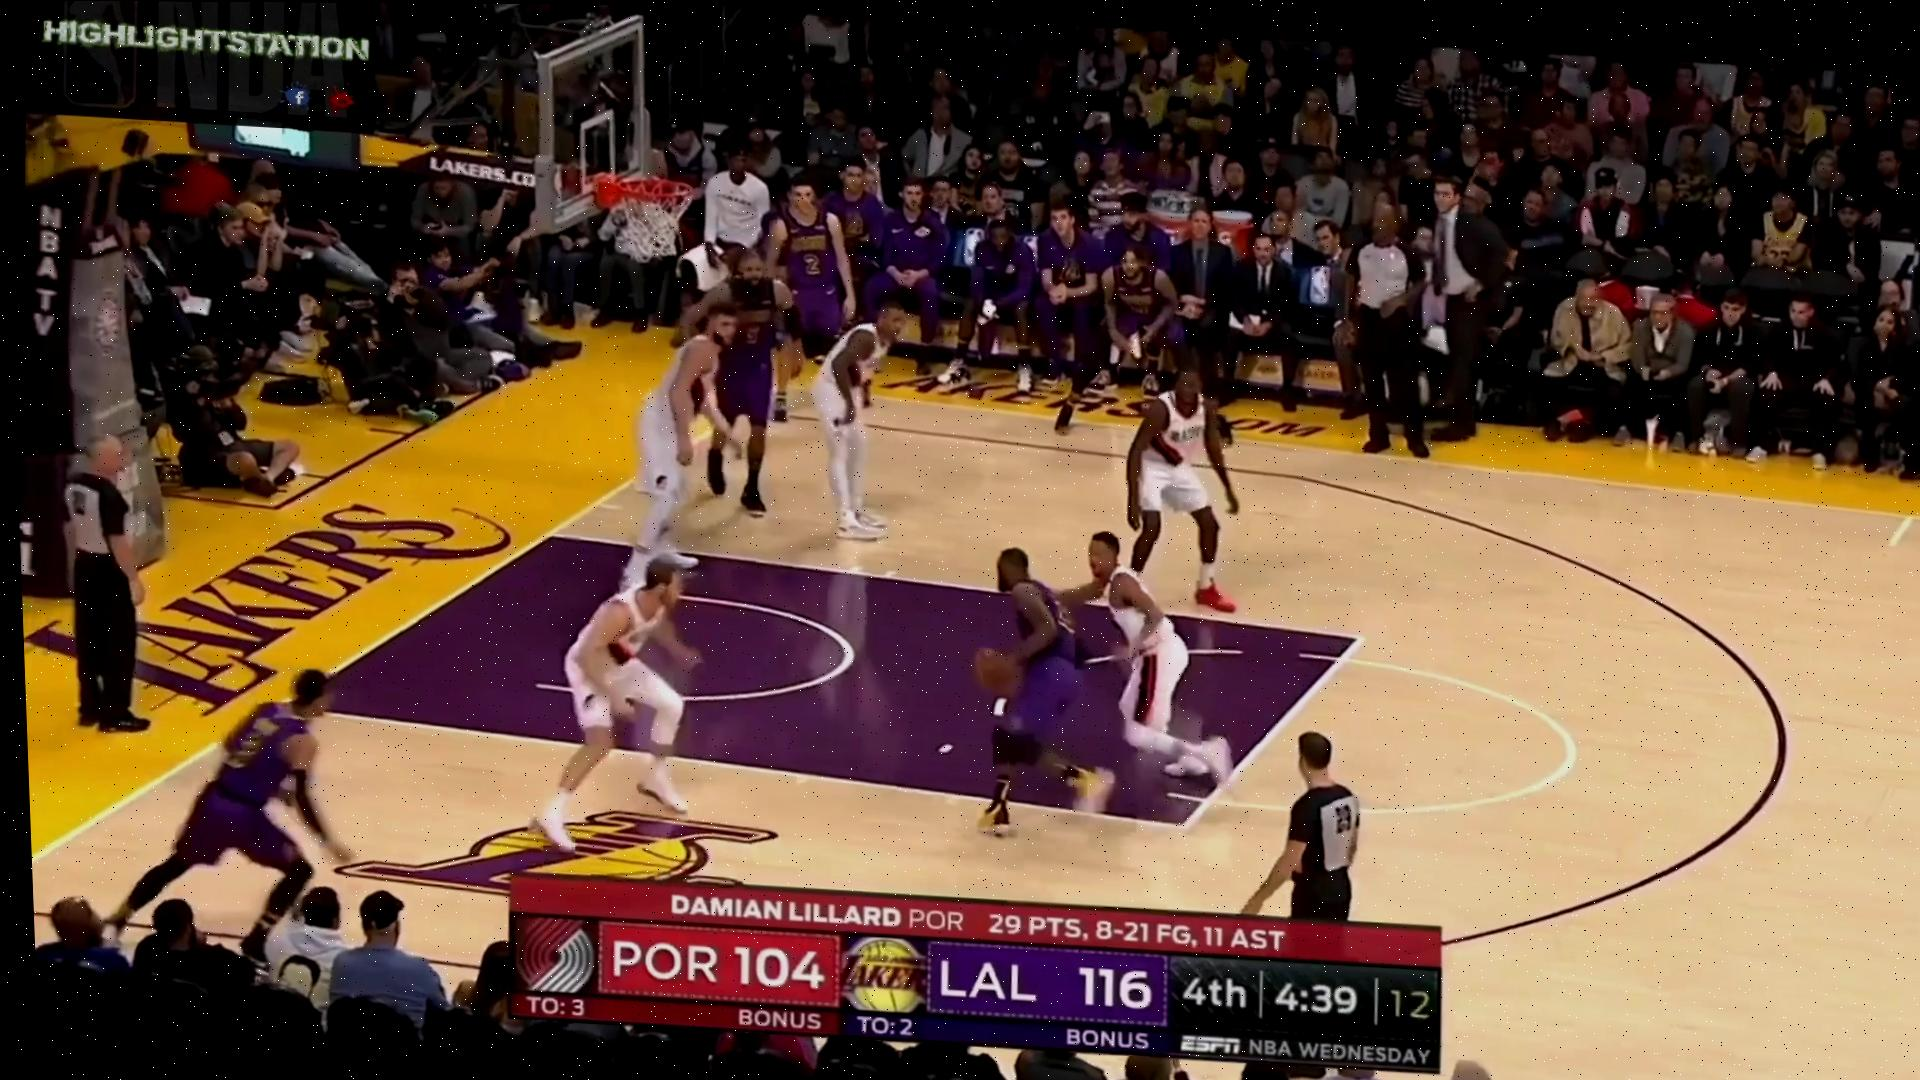no_foul: (936, 516, 1244, 848)
